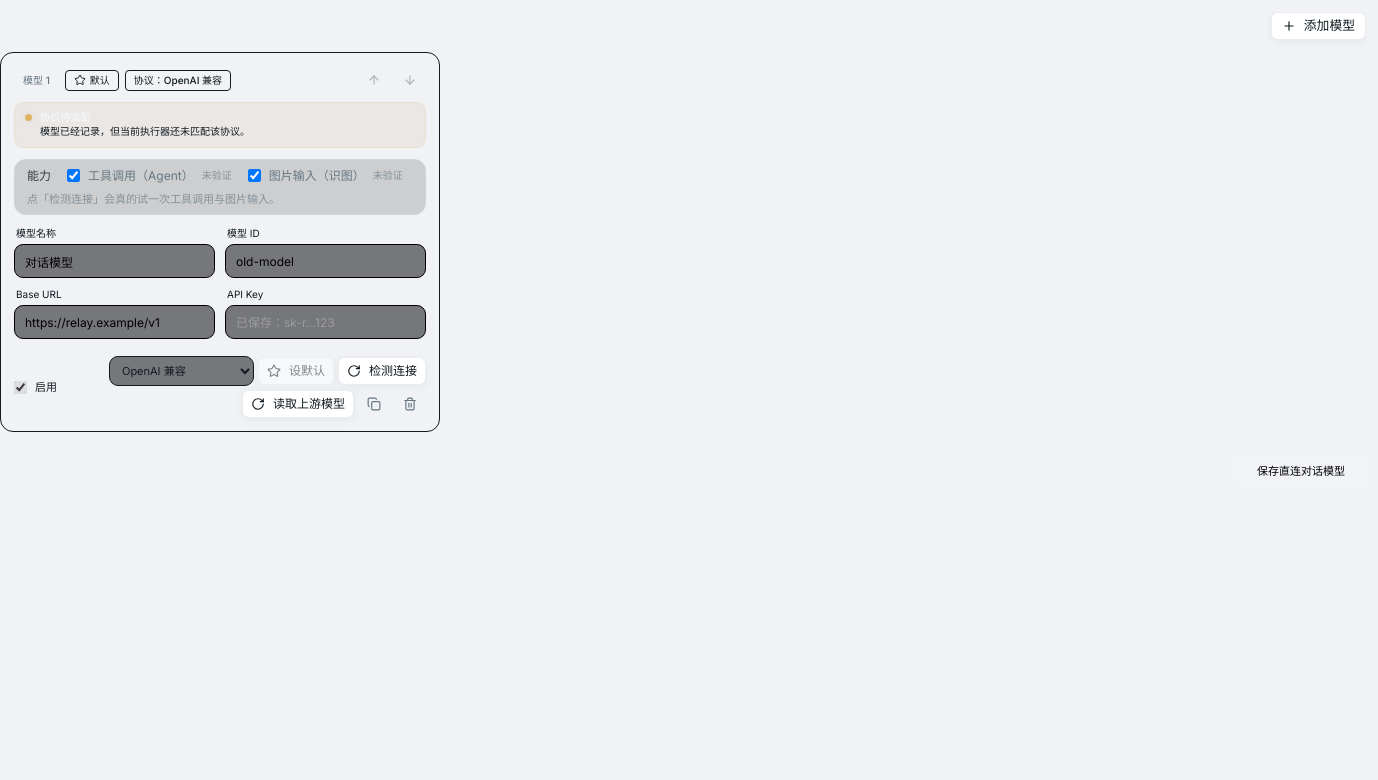
Village direct non-video model panel › reads the upstream catalog and fills the selected model ID
Click the button "读取上游模型".
click(298, 404)  # box [242, 390, 354, 418]
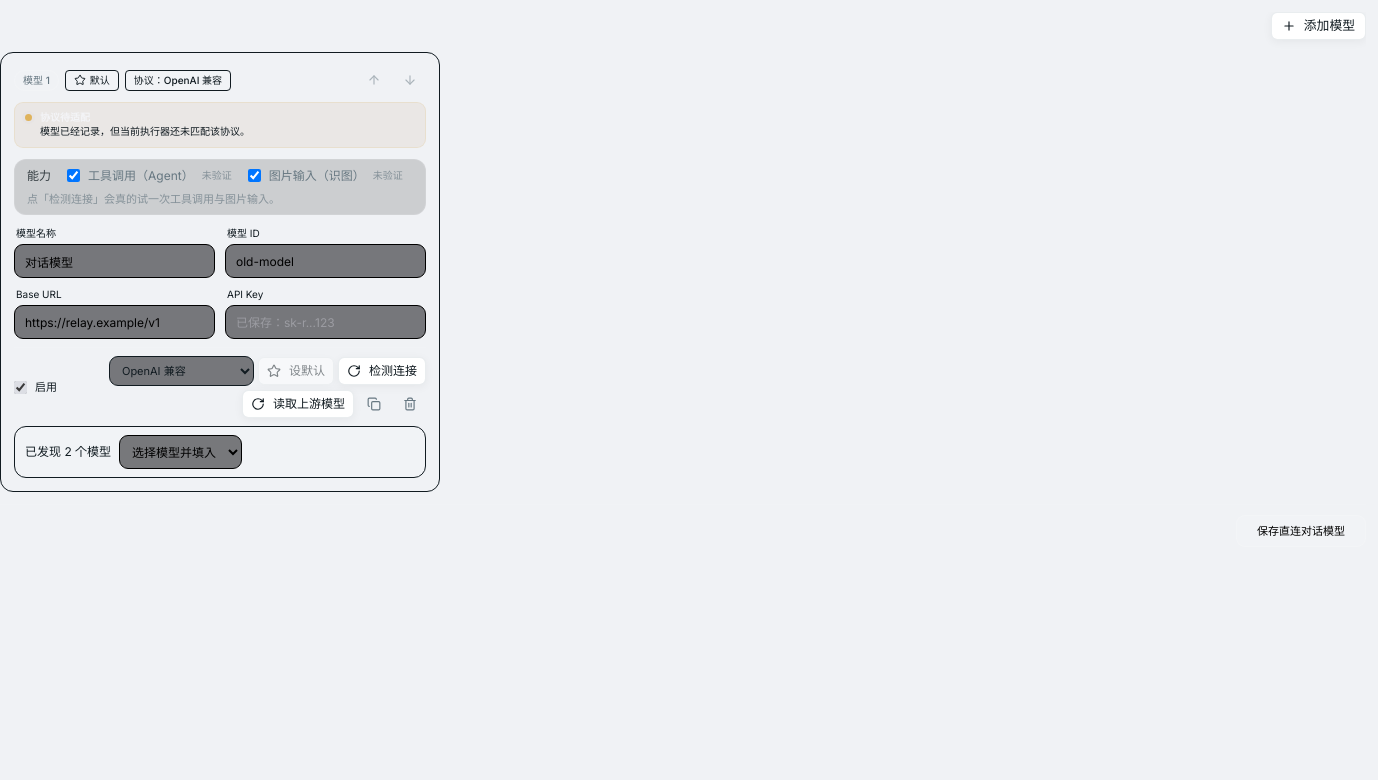
Select "gemini-3-flash" in the dropdown named "选择上游模型并填入" at (181, 452), box [119, 435, 242, 469]
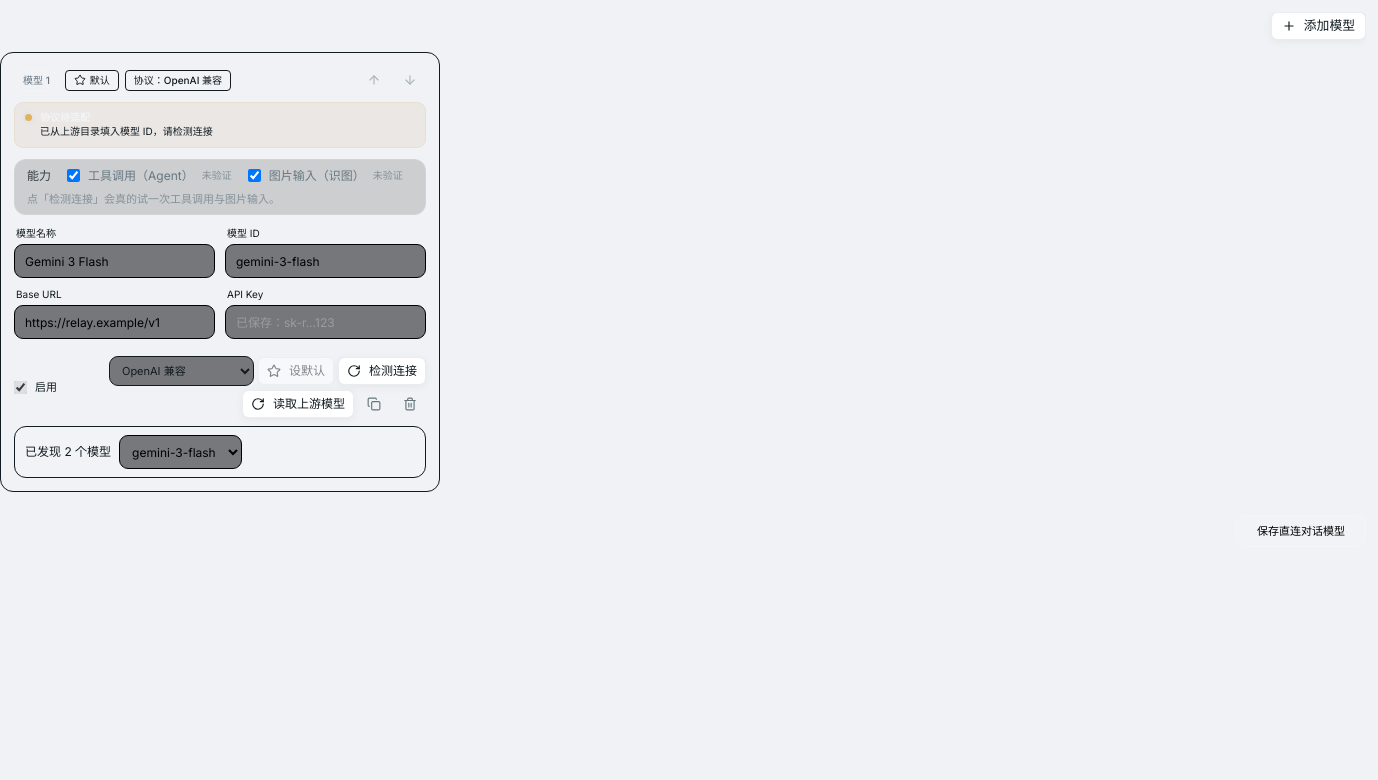
Result: the field named "直连对话模型模型 ID" holds "gemini-3-flash" at [225, 244, 426, 278]
Result: the field named "直连对话模型名称" holds "Gemini 3 Flash" at [14, 244, 215, 278]
